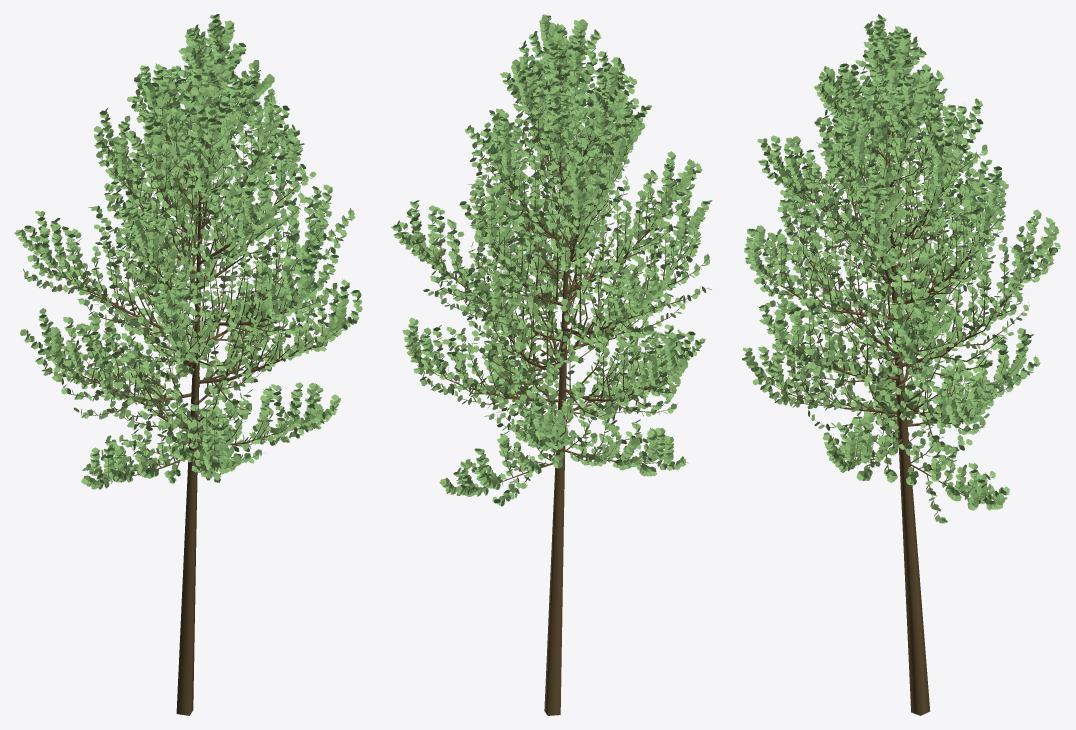
Rendered from SmallTree.fbx.
3 renders of one model, left to right at view 1: azimuth 30°, elevation 25°; view 2: azimuth 150°, elevation 25°; view 3: azimuth 270°, elevation 25°, orthographic. The views are drawn at different scales.
Visible parts, largest first — view 1: leaves, tree; view 2: leaves, tree; view 3: leaves, tree.
Part boxes in pixels (x1=…): leaves: x1=14, y1=14, x2=362, y2=489; tree: x1=32, y1=46, x2=358, y2=715; leaves: x1=391, y1=14, x2=712, y2=506; tree: x1=406, y1=48, x2=706, y2=715; leaves: x1=742, y1=14, x2=1060, y2=523; tree: x1=749, y1=55, x2=1048, y2=715.
Bounding box in the file's own units: 810 × 1756 × 732.
